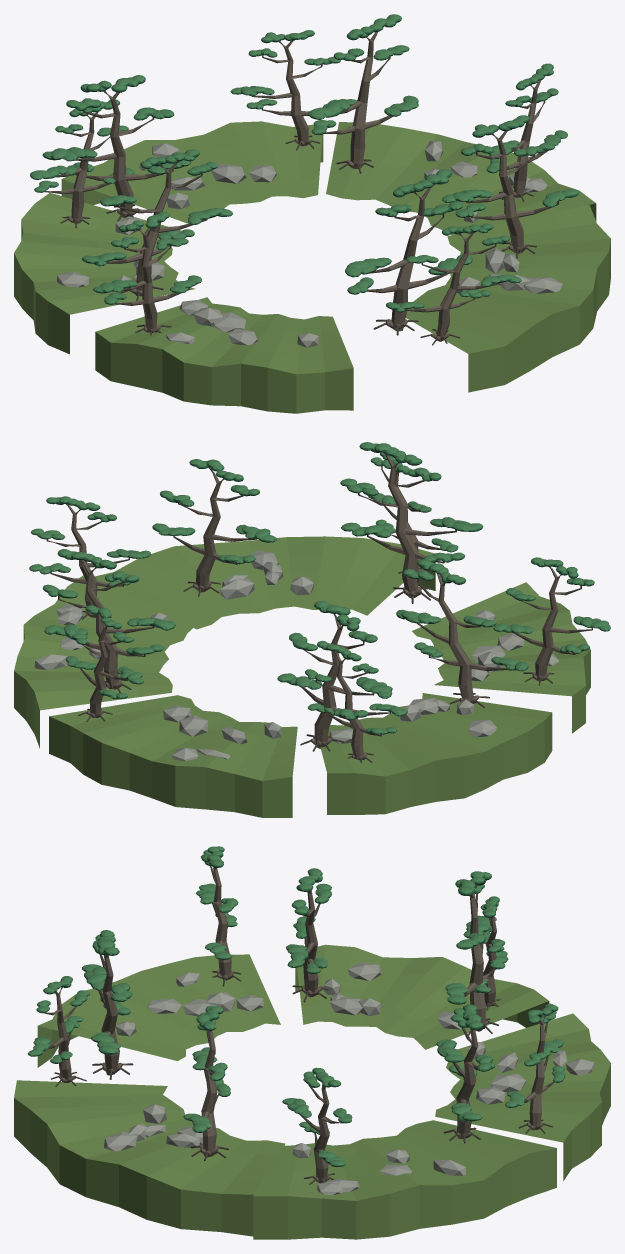
The model's file is saihoji-surroundings-v3.glb.
3 renders of one model, top to bottom at view 1: azimuth 30°, elevation 25°; view 2: azimuth 150°, elevation 25°; view 3: azimuth 270°, elevation 25°, orthographic. The views are drawn at different scales.
Parts seen in each view (by area): view 1: moss-entry_continuous_moss, return-view_continuous_moss, master-stones_continuous_moss, dry-cascade_continuous_moss, moss-islands_continuous_moss, n12.009, n12.005, n8.009, n12.002, n12.007, n12.004, n8.005 (+19 smaller); view 2: dry-cascade_continuous_moss, master-stones_continuous_moss, return-view_continuous_moss, moss-islands_continuous_moss, moss-entry_continuous_moss, n12.009, n12.002, n8.009, n12.007, n12.005, n12.004, n8.004 (+18 smaller); view 3: return-view_continuous_moss, moss-islands_continuous_moss, master-stones_continuous_moss, dry-cascade_continuous_moss, moss-entry_continuous_moss, n12.009, n12.004, n12.005, n12.002, n12.007, n12.010, n8.002 (+13 smaller).
Part boxes in pixels (bbox=[...]): moss-entry_continuous_moss: bbox=[95, 297, 353, 413]; return-view_continuous_moss: bbox=[391, 205, 610, 392]; master-stones_continuous_moss: bbox=[14, 193, 195, 354]; dry-cascade_continuous_moss: bbox=[61, 121, 323, 223]; moss-islands_continuous_moss: bbox=[326, 122, 596, 234]; n12.009: bbox=[345, 169, 471, 293]; n12.005: bbox=[308, 14, 418, 133]; n8.009: bbox=[379, 187, 431, 331]; n12.002: bbox=[43, 75, 191, 174]; n12.007: bbox=[442, 115, 578, 216]; n12.004: bbox=[82, 149, 232, 264]; n8.005: bbox=[339, 32, 382, 168]; dry-cascade_continuous_moss: bbox=[49, 695, 297, 817]; master-stones_continuous_moss: bbox=[320, 693, 552, 814]; return-view_continuous_moss: bbox=[95, 536, 435, 629]; moss-islands_continuous_moss: bbox=[14, 575, 192, 748]; moss-entry_continuous_moss: bbox=[412, 582, 590, 733]; n12.009: bbox=[340, 442, 483, 561]; n12.002: bbox=[278, 600, 392, 718]; n8.009: bbox=[378, 455, 430, 598]; n12.007: bbox=[152, 459, 276, 563]; n12.005: bbox=[43, 549, 175, 653]; n12.004: bbox=[396, 559, 528, 670]; n8.004: bbox=[427, 574, 486, 703]; return-view_continuous_moss: bbox=[14, 1080, 285, 1236]; moss-islands_continuous_moss: bbox=[253, 1120, 556, 1239]; master-stones_continuous_moss: bbox=[295, 944, 549, 1049]; dry-cascade_continuous_moss: bbox=[435, 1013, 610, 1180]; moss-entry_continuous_moss: bbox=[37, 954, 280, 1067]; n12.009: bbox=[82, 930, 131, 1053]; n12.004: bbox=[286, 868, 331, 971]; n12.005: bbox=[436, 1004, 494, 1119]; n12.002: bbox=[445, 871, 508, 1002]; n12.007: bbox=[183, 1005, 230, 1131]; n12.010: bbox=[282, 1067, 351, 1165]; n8.002: bbox=[466, 885, 489, 1031].
Bounding box in the file's own units: 19.32 × 6.25 × 18.56.
